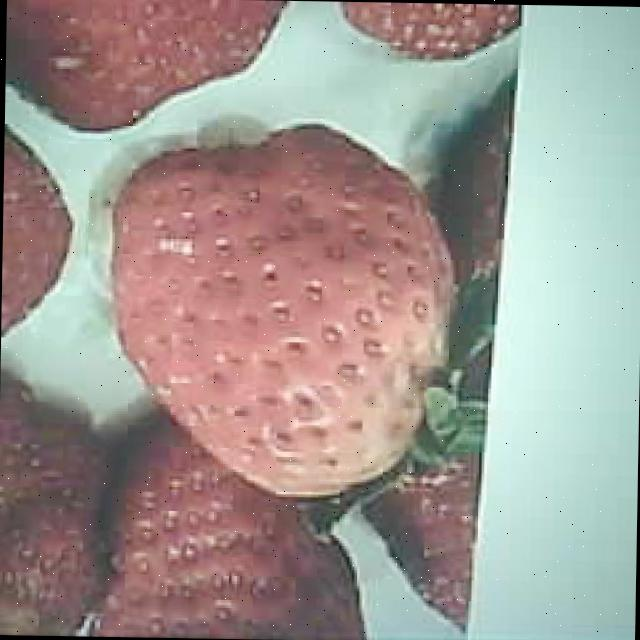strawberry: (108, 120, 452, 494)
